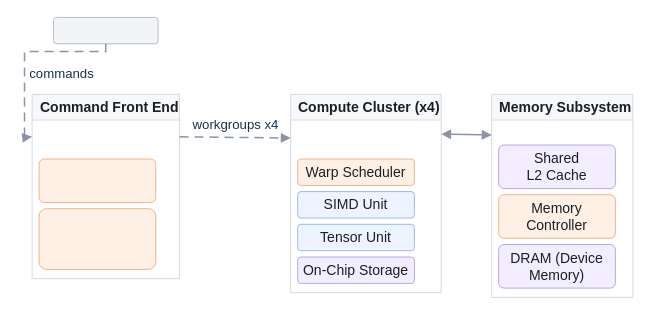
The diagram is 651 pixels wide and 315 high, and some of its shapes have lost their labels. The shapes that lost their labels are listed below. From the top down, each one's centre as x and y in pixels, then its label:
point (105, 30): Host Interface
point (97, 180): Command Processor
point (97, 238): Task Dispatcher Fan-out to 4 clusters
